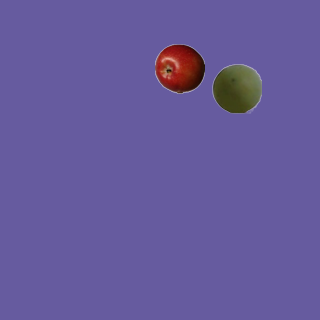Apple Braeburn: (154, 43, 204, 93)
Grape White 4: (211, 63, 261, 113)
